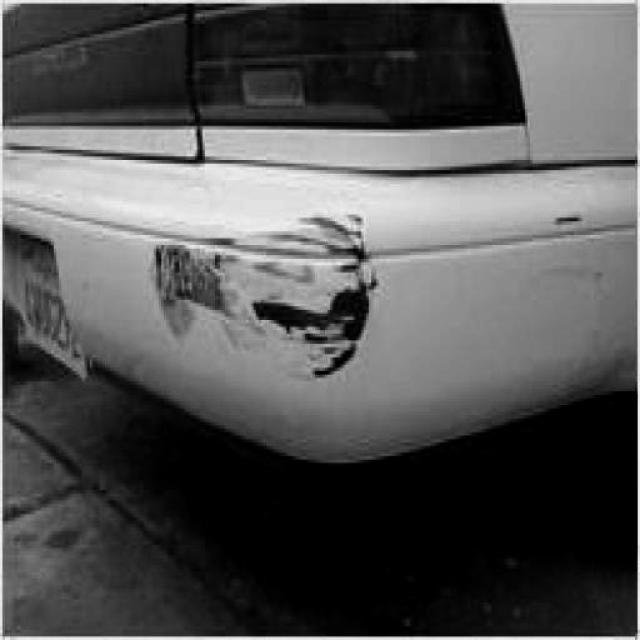car damage: (146, 208, 381, 381)
